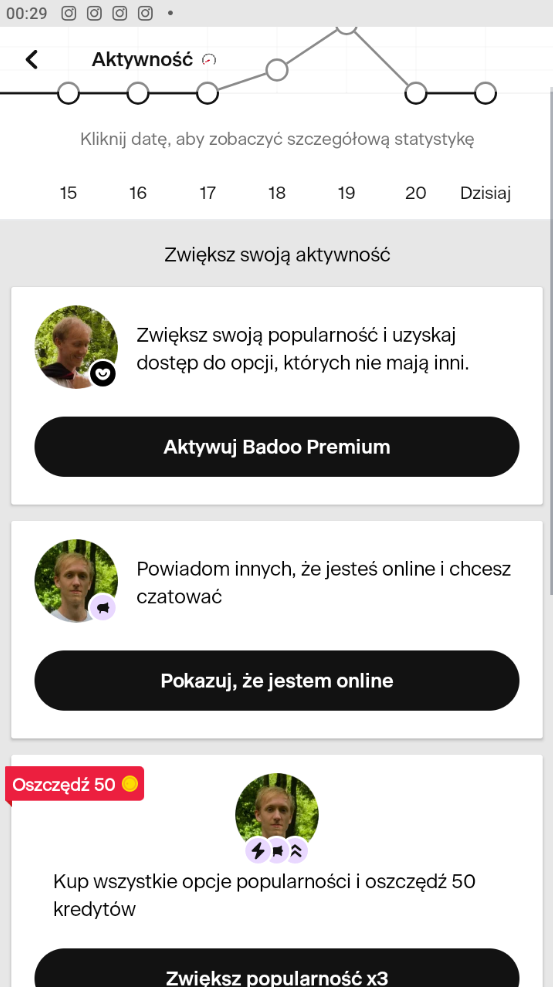kupno_button: (37, 643, 520, 713), (30, 419, 520, 479), (36, 944, 520, 987)
